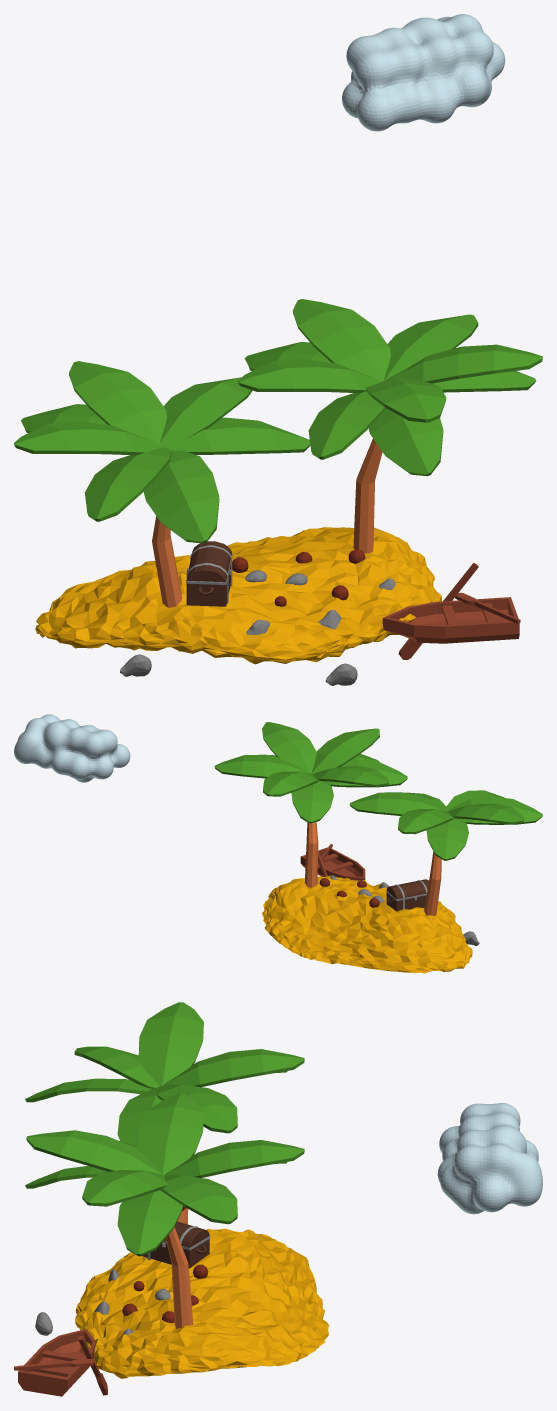
Rendered from Palm Tree.fbx.
The picture shows the model from 3 angles, top to bottom: view 1: azimuth 30°, elevation 25°; view 2: azimuth 150°, elevation 25°; view 3: azimuth 270°, elevation 25°; orthographic projection. The views are drawn at different scales.
Visible parts, largest first — view 1: Icosphere, Mball.027, Cube.001, Plane.015, Plane.010, Plane.001, Plane.016, Plane.011, Plane.004, Plane.018, Plane.002, Plane.012 (+10 smaller); view 2: Icosphere, Mball.027, Plane.004, Plane.005, Plane.012, Plane.003, Plane.017, Plane.008, Cube.001, Plane.002, Plane.011, Cube (+7 smaller); view 3: Icosphere, Mball.027, Plane.011, Plane.002, Cube.001, Plane.005, Plane.001, Plane.010, Plane.007, Plane.003, Plane.004, Plane.012 (+6 smaller).
Boxes of the visible parts, left/top/right/bottom form: Icosphere: left=35, top=527, right=441, bottom=664; Mball.027: left=342, top=14, right=505, bottom=131; Cube.001: left=382, top=563, right=520, bottom=659; Plane.015: left=143, top=450, right=219, bottom=543; Plane.010: left=69, top=361, right=166, bottom=444; Plane.001: left=292, top=299, right=390, bottom=381; Plane.016: left=161, top=417, right=310, bottom=454; Plane.011: left=14, top=421, right=163, bottom=455; Plane.004: left=385, top=344, right=542, bottom=383; Plane.018: left=84, top=447, right=171, bottom=521; Plane.002: left=238, top=359, right=381, bottom=393; Plane.012: left=160, top=377, right=252, bottom=446; Icosphere: left=262, top=875, right=472, bottom=973; Mball.027: left=14, top=714, right=130, bottom=782; Plane.004: left=262, top=722, right=316, bottom=773; Plane.005: left=311, top=728, right=379, bottom=774; Plane.012: left=349, top=792, right=447, bottom=815; Plane.003: left=214, top=754, right=308, bottom=778; Plane.017: left=426, top=818, right=468, bottom=860; Plane.008: left=291, top=781, right=333, bottom=823; Cube.001: left=300, top=844, right=365, bottom=880; Plane.002: left=313, top=766, right=388, bottom=786; Plane.011: left=448, top=803, right=524, bottom=824; Cube: left=386, top=879, right=428, bottom=911; Icosphere: left=75, top=1228, right=329, bottom=1378; Mball.027: left=437, top=1103, right=542, bottom=1214; Plane.011: left=138, top=1002, right=203, bottom=1086; Plane.002: left=138, top=1093, right=203, bottom=1174; Cube.001: left=14, top=1329, right=107, bottom=1396; Plane.005: left=26, top=1130, right=162, bottom=1174; Plane.001: left=164, top=1140, right=304, bottom=1177; Plane.010: left=164, top=1049, right=304, bottom=1087; Plane.007: left=117, top=1190, right=182, bottom=1256; Plane.003: left=160, top=1175, right=237, bottom=1224; Plane.004: left=82, top=1170, right=167, bottom=1206; Plane.012: left=156, top=1084, right=237, bottom=1133.
Size of what is drawn, in the model's own units: 892 by 539 by 692.
